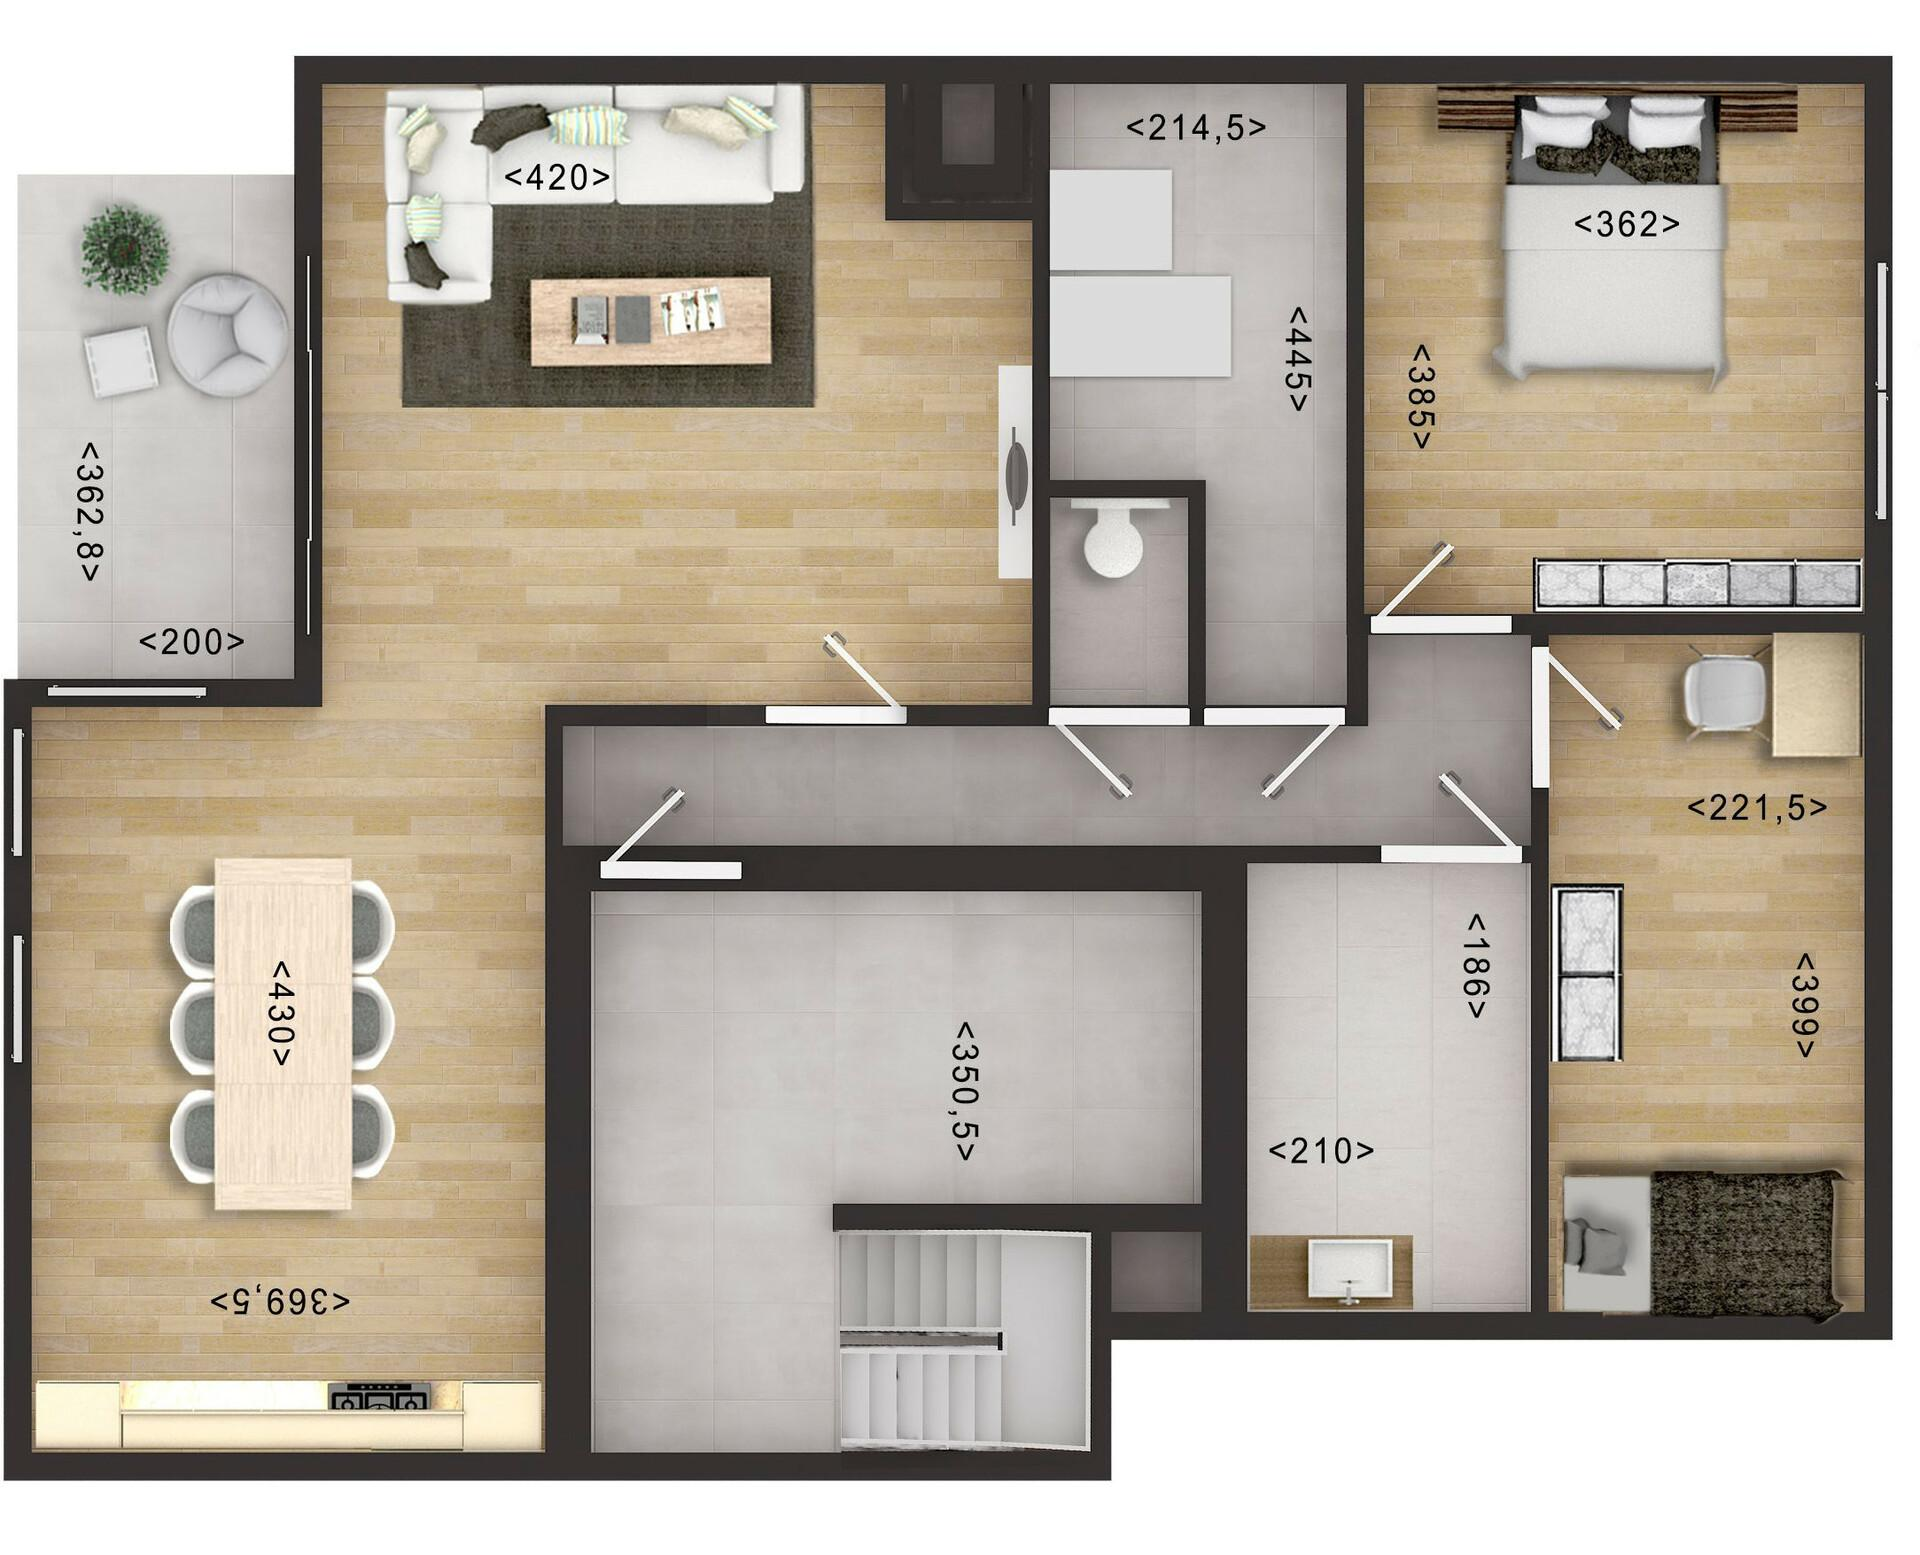room: (308, 65, 1039, 711), (21, 687, 559, 1469), (568, 858, 1219, 1466), (1361, 67, 1872, 616), (1541, 620, 1879, 1331), (1049, 70, 1352, 716), (1223, 854, 1542, 1327)
